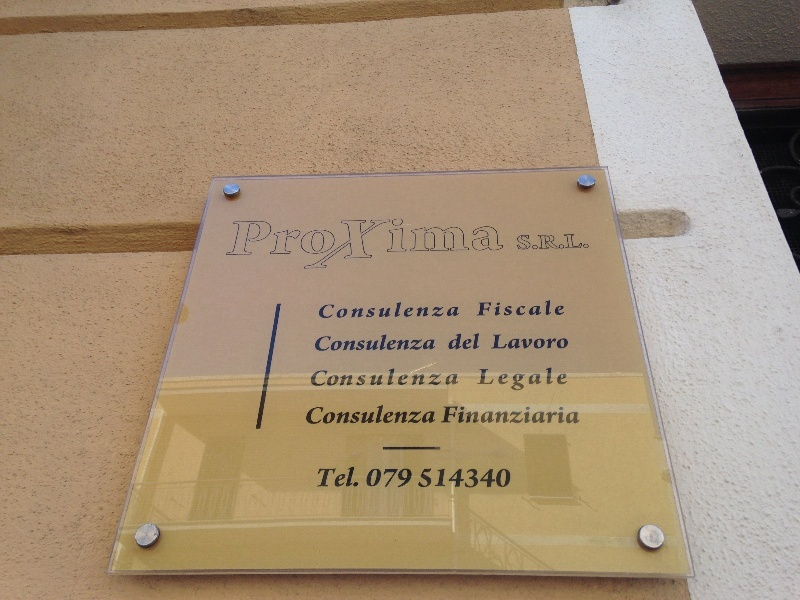text: (241, 214, 256, 280), (257, 214, 272, 280), (273, 214, 288, 280), (289, 214, 304, 280), (305, 214, 320, 280), (321, 214, 336, 280), (337, 214, 352, 280), (353, 214, 368, 280), (369, 214, 384, 280), (385, 214, 400, 280), (401, 214, 416, 280), (417, 214, 432, 280), (433, 214, 448, 280), (449, 214, 464, 280), (465, 214, 480, 280), (481, 214, 496, 280), (231, 214, 240, 280), (497, 214, 506, 280), (481, 367, 496, 393), (497, 367, 512, 393), (513, 367, 528, 393), (529, 367, 544, 393), (545, 367, 560, 393), (449, 402, 464, 426), (465, 402, 480, 426), (481, 402, 496, 426), (497, 402, 512, 426), (513, 402, 528, 426), (529, 402, 544, 426), (545, 402, 560, 426), (561, 402, 576, 426), (321, 404, 336, 427), (337, 404, 352, 427), (353, 404, 368, 427), (369, 404, 384, 427), (385, 404, 400, 427), (401, 404, 416, 427), (417, 404, 432, 427), (433, 466, 448, 489), (449, 466, 464, 489), (465, 466, 480, 489), (481, 466, 496, 489), (497, 466, 512, 489), (321, 466, 336, 488), (337, 466, 352, 488), (369, 466, 384, 488), (385, 466, 400, 488), (529, 230, 544, 252), (545, 230, 560, 252), (561, 230, 576, 252), (577, 230, 591, 252), (321, 301, 336, 321), (337, 301, 352, 321), (353, 301, 368, 321), (369, 301, 384, 321), (385, 301, 400, 321), (401, 301, 416, 321), (417, 301, 432, 321), (433, 301, 448, 321), (321, 368, 336, 388), (337, 368, 352, 388), (353, 368, 368, 388), (369, 368, 384, 388), (385, 368, 400, 388), (401, 368, 416, 388), (417, 368, 432, 388), (433, 368, 448, 388), (321, 334, 336, 353), (337, 334, 352, 353), (353, 334, 368, 353), (369, 334, 384, 353), (385, 334, 400, 353), (401, 334, 416, 353), (417, 334, 432, 353), (308, 404, 320, 427), (449, 333, 464, 351), (465, 333, 480, 351), (401, 466, 413, 488), (481, 300, 496, 317), (497, 300, 512, 317), (513, 300, 528, 317), (529, 300, 544, 317), (545, 300, 560, 317), (517, 230, 528, 252), (497, 334, 512, 350), (513, 334, 528, 350), (529, 334, 544, 350), (545, 334, 560, 350), (423, 466, 432, 489), (449, 301, 459, 321), (449, 368, 459, 388), (561, 367, 568, 393), (312, 368, 320, 388), (353, 466, 360, 488), (561, 334, 569, 350), (444, 402, 448, 426), (433, 404, 437, 427), (316, 334, 320, 353), (577, 402, 580, 426), (561, 300, 565, 317), (433, 334, 436, 353), (493, 334, 496, 350), (319, 466, 320, 488), (479, 300, 480, 317)
